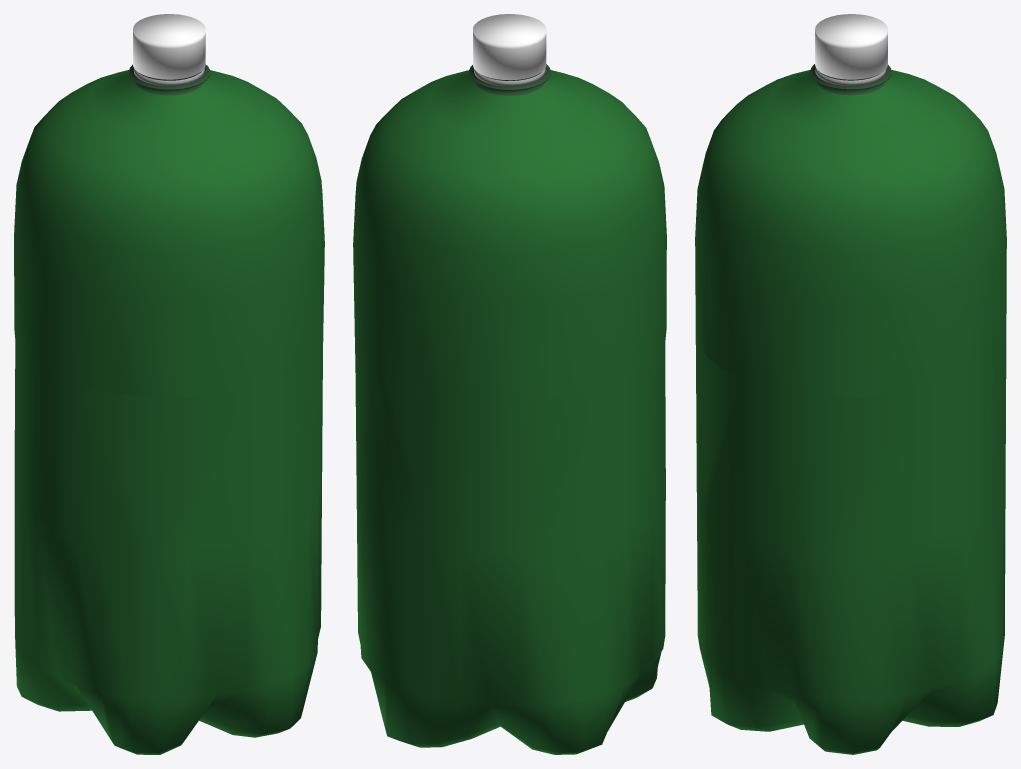
Rendered from Bottle.fbx.
3 views of the same model, side by side, from view 1: azimuth 30°, elevation 25°; view 2: azimuth 150°, elevation 25°; view 3: azimuth 270°, elevation 25° (orthographic).
Parts seen in each view (by area): view 1: garrafa;bottle, tampa;cap; view 2: garrafa;bottle, tampa;cap; view 3: garrafa;bottle, tampa;cap.
Part boxes in pixels (x1,y1,x2,y2): garrafa;bottle: [14, 64, 324, 754]; tampa;cap: [133, 14, 205, 79]; garrafa;bottle: [353, 64, 666, 754]; tampa;cap: [473, 14, 546, 80]; garrafa;bottle: [695, 64, 1006, 754]; tampa;cap: [815, 14, 887, 79].
Size of the model in its own units: 459 by 1089 by 459.
